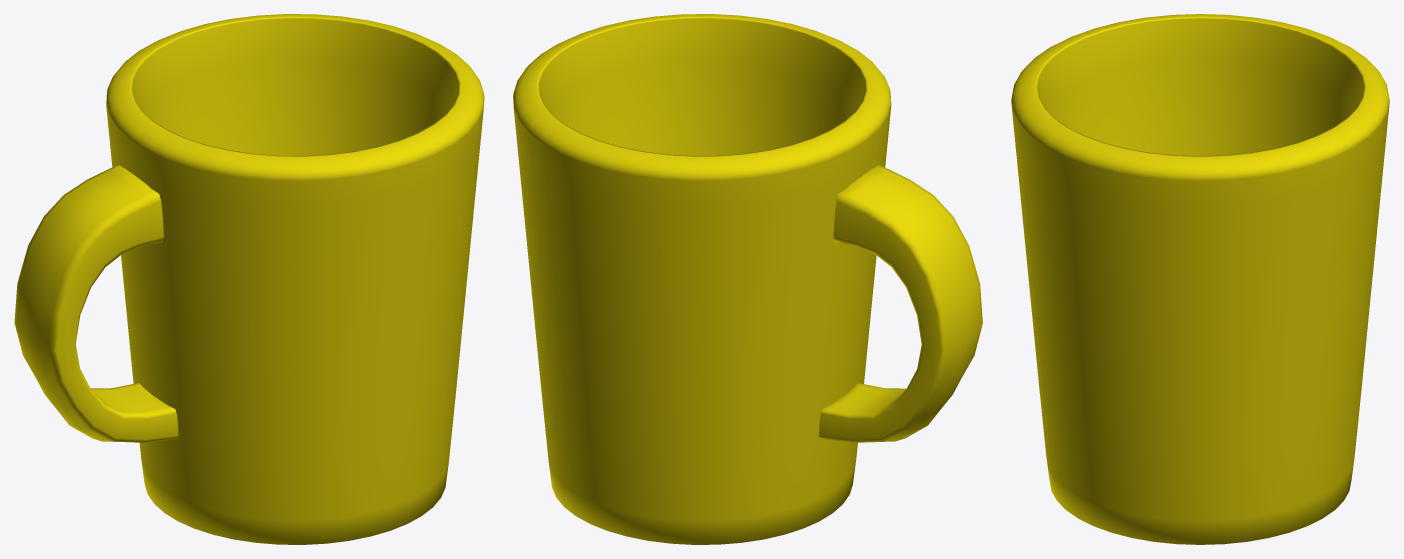
Rendered from Cup.fbx.
The picture shows the model from 3 angles, left to right: view 1: azimuth 30°, elevation 25°; view 2: azimuth 150°, elevation 25°; view 3: azimuth 270°, elevation 25°; orthographic projection.
Visible parts, largest first — view 1: Cup; view 2: Cup; view 3: Cup.
Part boxes in pixels (x1,y1,x2,y2): Cup: [14, 14, 484, 544]; Cup: [513, 14, 982, 544]; Cup: [1011, 14, 1389, 544].
Bounding box in the file's own units: 45.03 × 39.81 × 34.4.
